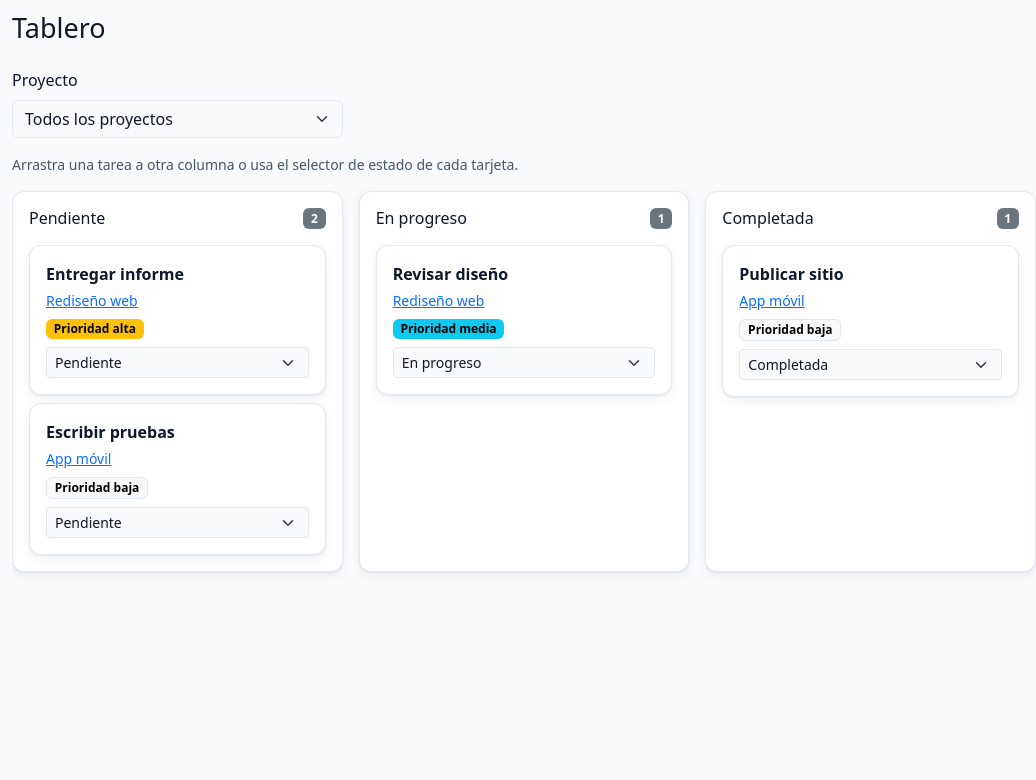
Test case: PaginaTablero › filtra el tablero por proyecto
Select "App móvil" in the dropdown labelled "Proyecto" at (177, 119), box [12,100,343,138]
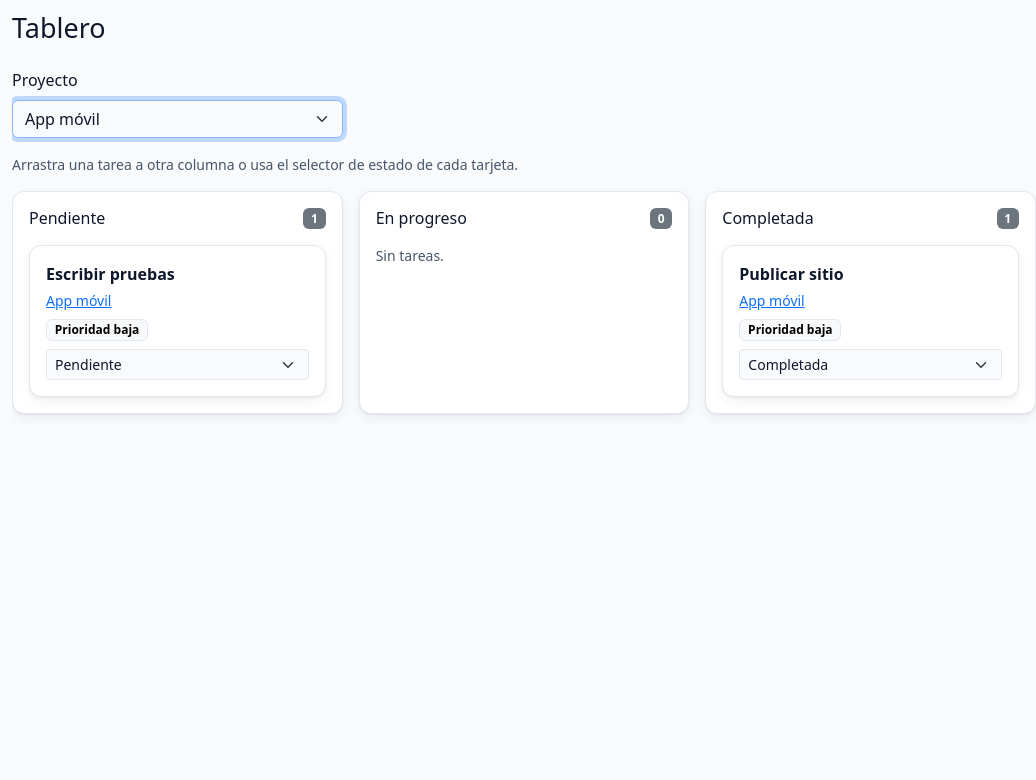
Expected: the text "Escribir pruebas" is shown, [46,263,175,285]
Expected: the text "Entregar informe" is gone
Expected: the text "Sin tareas." is shown, [376,246,444,265]
